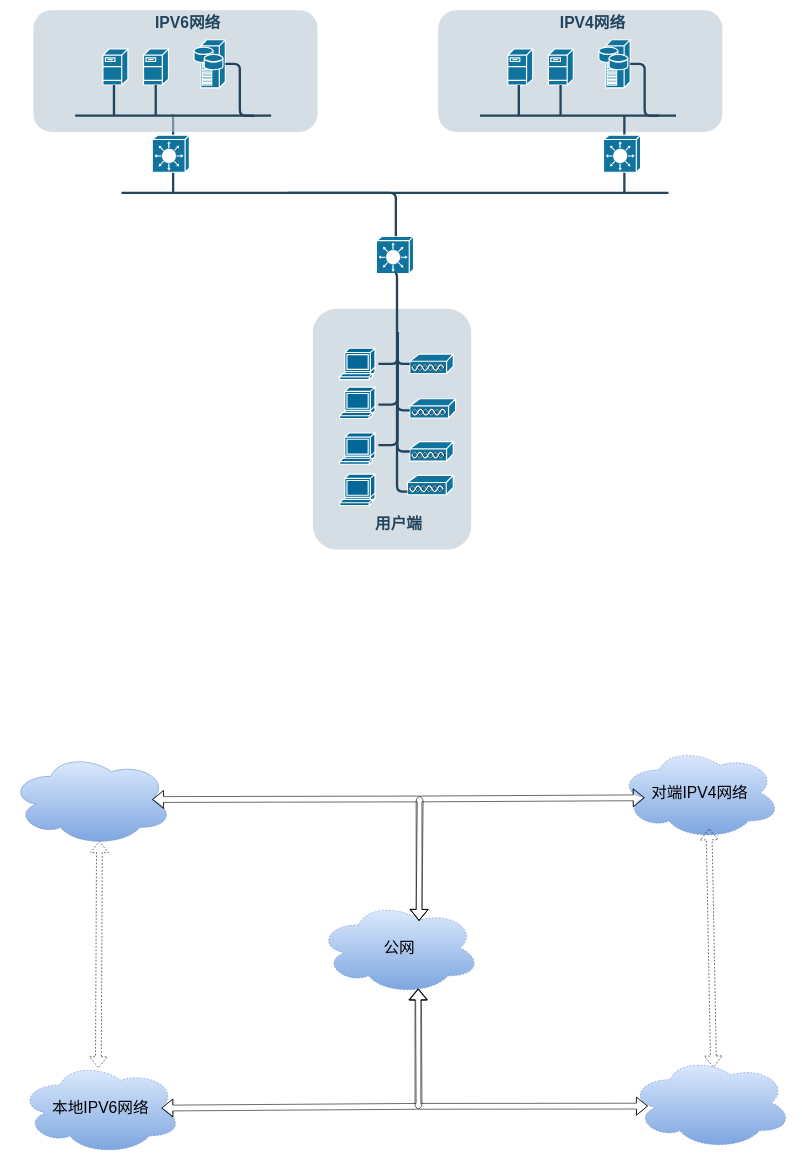
The diagram is 802 pixels wide and 1165 high, and some of its shapes have lost their labels. Each missing label, with the box of its shape:
对端IPV6网络: (629, 1056, 792, 1149)
本地IPV4网络: (10, 753, 173, 846)
